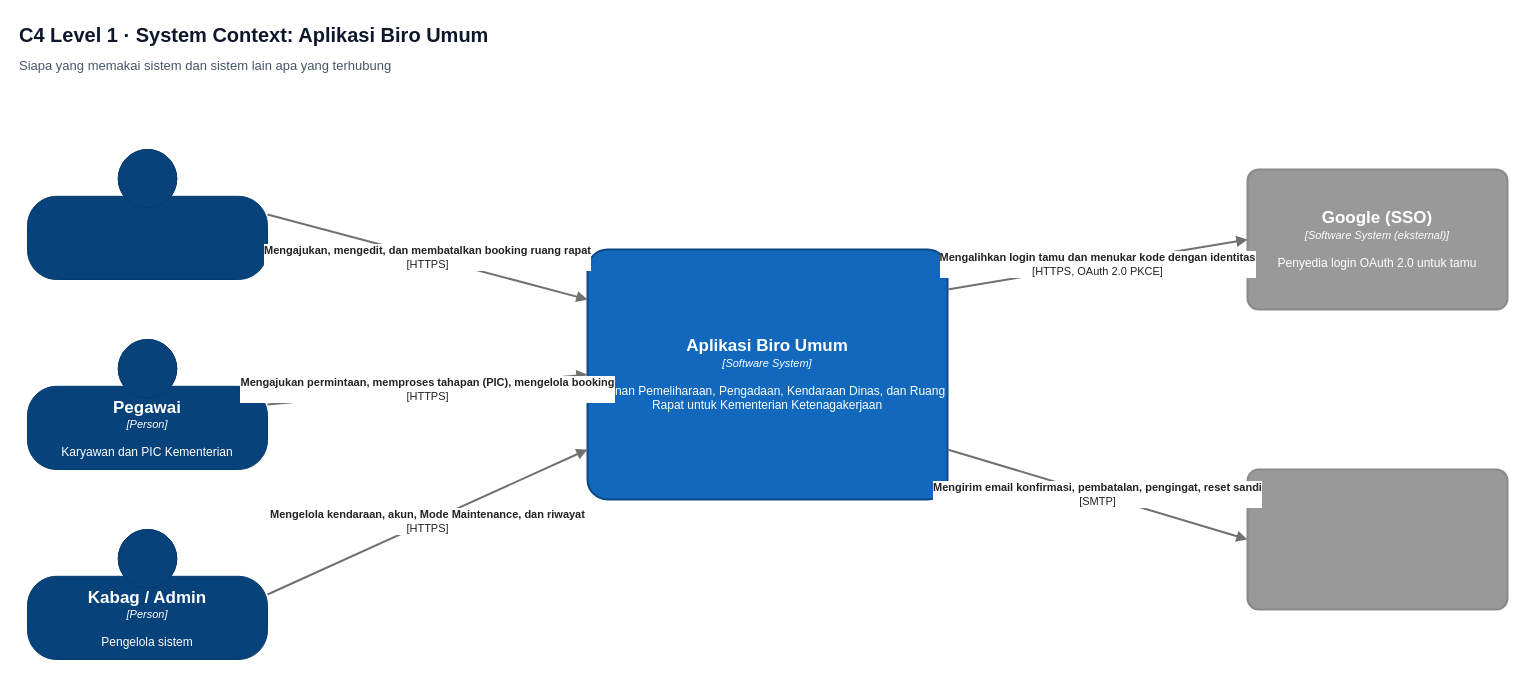
This 1525x677 diagram has some shape labels left out. The box of each missing label's shape, as (x1, y1, x2, y2) in pixels:
Email (SMTP) [Software System (eksternal)] Server email: Gmail atau email kantor: (1246, 468, 1508, 610)
Tamu [Person] Pemohon eksternal; login dengan akun Google di kiosk: (26, 148, 268, 280)
